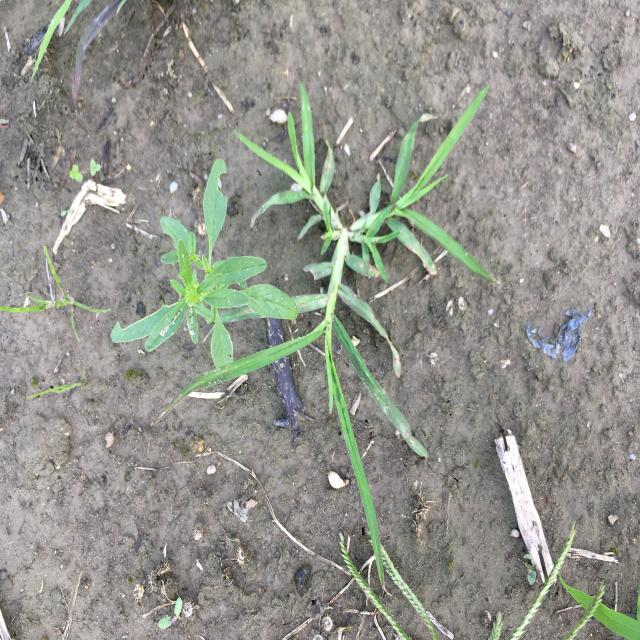Goosegrass: (151, 79, 500, 598)
Waterhemp: (110, 157, 300, 377)
